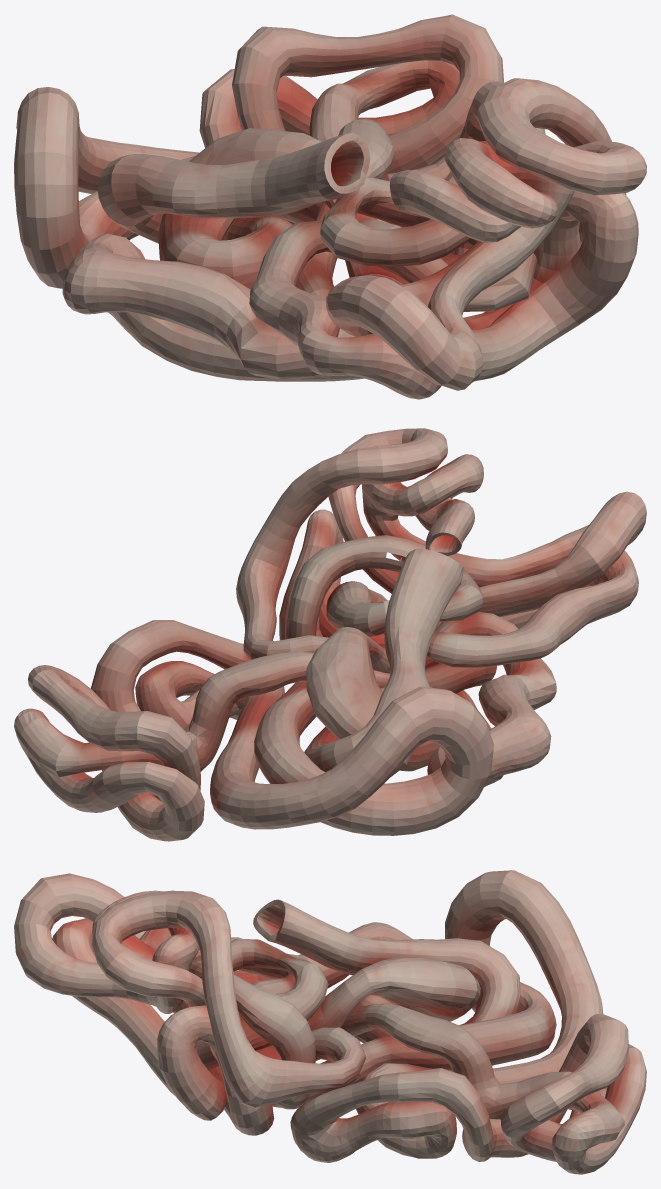
Rendered from jejunum_LP.glb.
3 renders of one model, top to bottom at view 1: azimuth 30°, elevation 25°; view 2: azimuth 150°, elevation 25°; view 3: azimuth 270°, elevation 25°, orthographic. The views are drawn at different scales.
Parts seen in each view (by area): view 1: jejunum_LP; view 2: jejunum_LP; view 3: jejunum_LP.
Part boxes in pixels (left/top/right/bottom): jejunum_LP: left=14, top=14, right=646, bottom=399; jejunum_LP: left=14, top=428, right=646, bottom=841; jejunum_LP: left=14, top=870, right=646, bottom=1174.
Bounding box in the file's own units: 0.00351 × 0.002 × 0.00469.
1 material, 1 textured.
